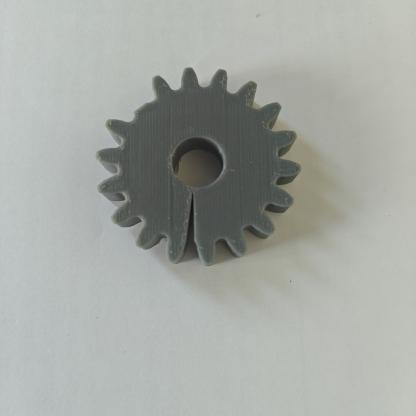defect: (148, 176, 240, 270), (99, 56, 181, 152)
gear: (80, 45, 312, 284)
